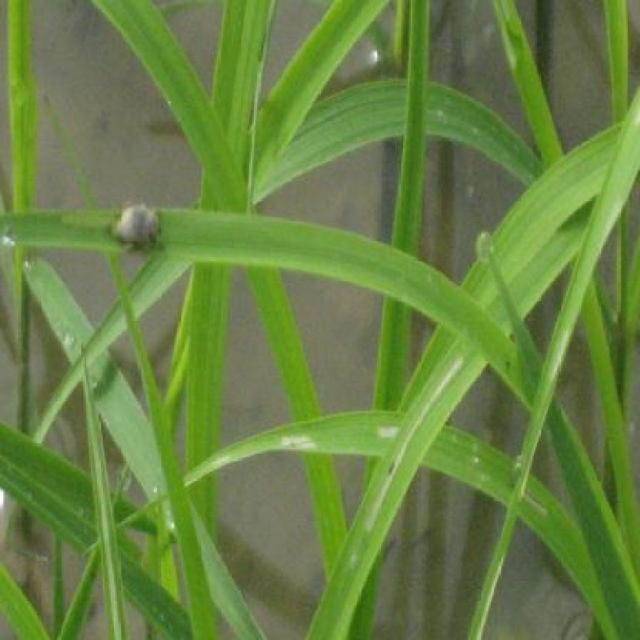rice-bug: (110, 199, 164, 253)
